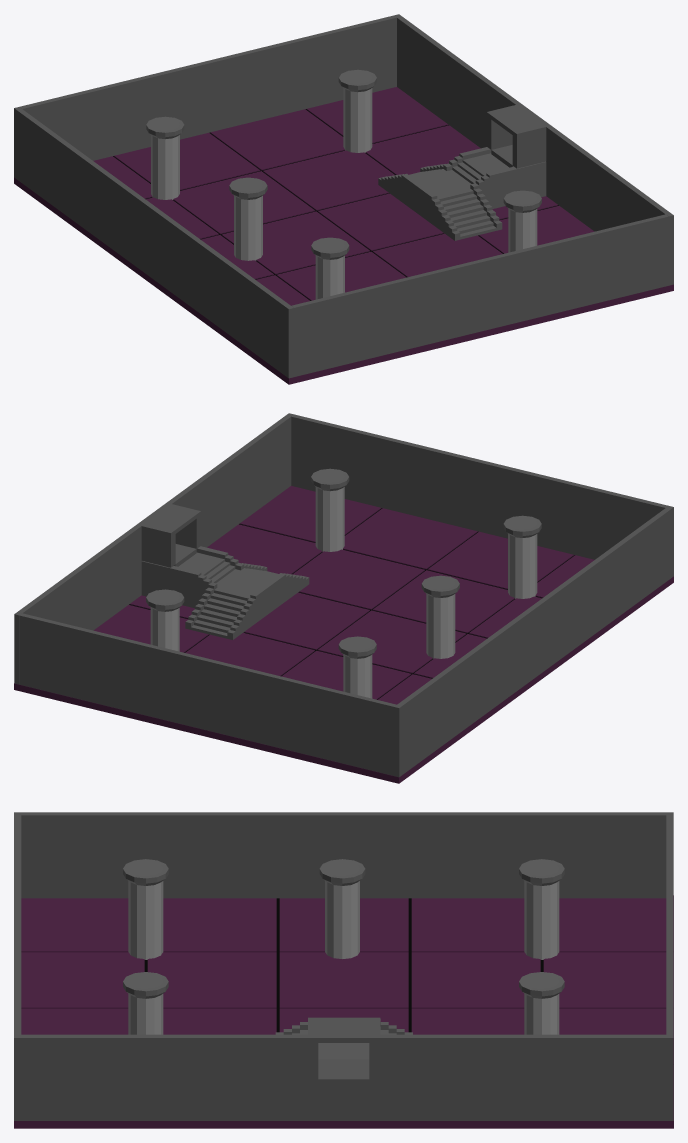
File: arena.fbx
3 views of the same model, one above another, from view 1: azimuth 30°, elevation 25°; view 2: azimuth 150°, elevation 25°; view 3: azimuth 270°, elevation 25° (orthographic). The views are drawn at different scales.
Visible parts, largest first — view 1: Ground, Wall.002, Wall.001, Wall.003, DoorWall, Stairway, Collumn.005, Collumn.002, Collumn.003, Collumn.001, Collumn.004; view 2: Ground, Wall.001, Wall.002, Wall.003, DoorWall, Stairway, Collumn.001, Collumn.003, Collumn.004, Collumn.002, Collumn.005; view 3: Ground, DoorWall, Wall.003, Collumn.001, Collumn.002, Collumn.003, Collumn.004, Collumn.005, Wall.001, Wall.002, Stairway.
Part boxes in pixels (x1,y1,x2,y2): Ground: [14, 87, 673, 384]; Wall.002: [291, 214, 668, 376]; Wall.001: [19, 15, 396, 160]; Wall.003: [14, 107, 293, 378]; DoorWall: [394, 14, 673, 285]; Stairway: [378, 147, 546, 240]; Collumn.005: [338, 69, 376, 152]; Collumn.002: [146, 116, 184, 199]; Collumn.003: [229, 177, 267, 260]; Collumn.001: [311, 237, 349, 299]; Collumn.004: [503, 190, 541, 252]; Ground: [14, 486, 673, 783]; Wall.001: [19, 613, 396, 775]; Wall.002: [291, 414, 668, 559]; Wall.003: [394, 506, 673, 777]; DoorWall: [14, 413, 293, 684]; Stairway: [141, 546, 309, 639]; Collumn.001: [503, 515, 541, 598]; Collumn.003: [421, 575, 459, 658]; Collumn.004: [311, 468, 349, 551]; Collumn.002: [338, 636, 376, 698]; Collumn.005: [146, 589, 184, 651]; Ground: [14, 895, 673, 1128]; DoorWall: [14, 1017, 673, 1120]; Wall.003: [14, 812, 673, 898]; Collumn.001: [123, 859, 168, 959]; Collumn.002: [519, 859, 564, 959]; Collumn.003: [319, 859, 365, 958]; Collumn.004: [123, 972, 168, 1034]; Collumn.005: [519, 972, 564, 1034]; Wall.001: [666, 815, 673, 1034]; Wall.002: [14, 815, 21, 1034]; Stairway: [275, 1019, 412, 1059].
Size of the model in its own units: 82.89 by 15.55 by 102.
